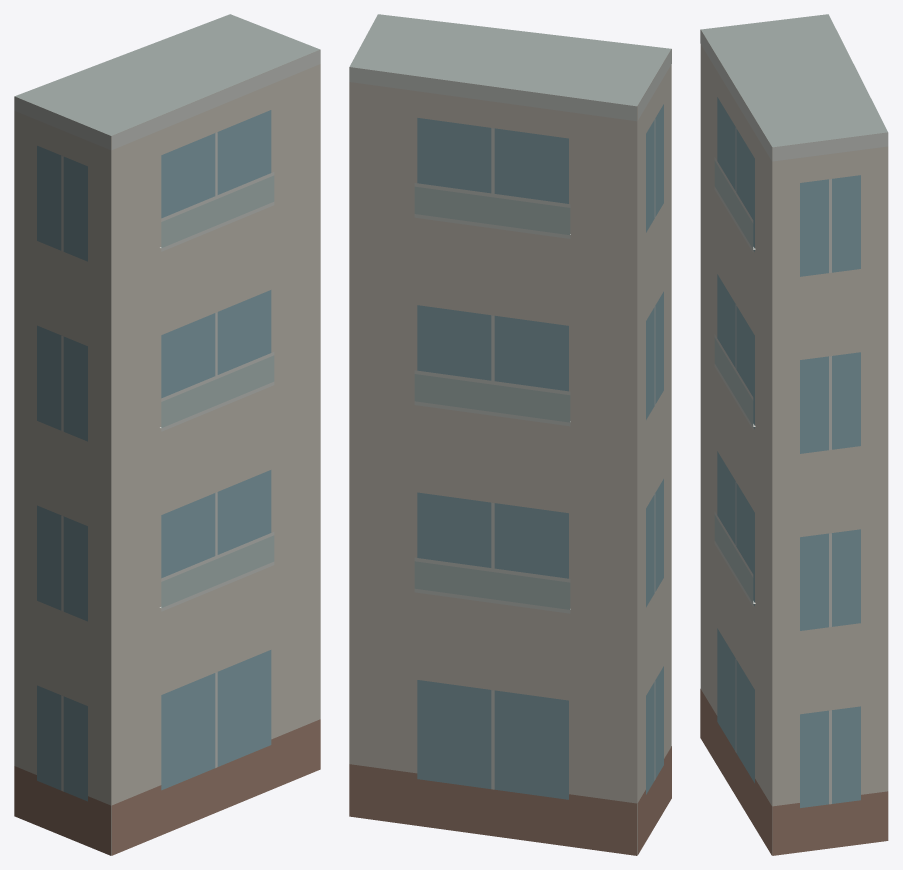
Rendered from survey-upis-32546930.glb.
3 renders of one model, left to right at view 1: azimuth 30°, elevation 25°; view 2: azimuth 150°, elevation 25°; view 3: azimuth 270°, elevation 25°, orthographic. The views are drawn at different scales.
Parts seen in each view (by area): view 1: survey-upis-32546930.tmp; view 2: survey-upis-32546930.tmp; view 3: survey-upis-32546930.tmp.
Part boxes in pixels (x1,y1,x2,y2): survey-upis-32546930.tmp: [14, 14, 320, 855]; survey-upis-32546930.tmp: [349, 14, 671, 855]; survey-upis-32546930.tmp: [700, 14, 888, 855].
Bounding box in the file's own units: 4.93 × 12.2 × 2.94.
